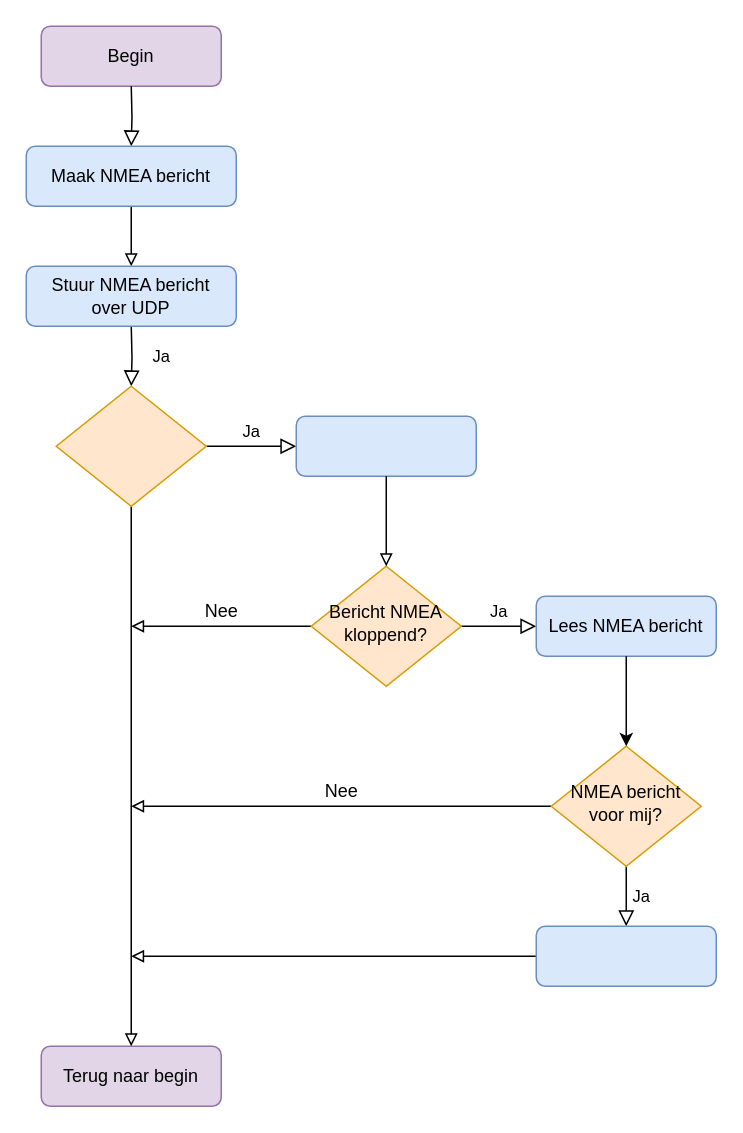
The diagram is 743 pixels wide and 1133 high, and some of its shapes have lost their labels. Each missing label, with the box of its shape:
Lees UDP: (295, 415, 476, 476)
UDP beschikbaar?: (55, 385, 206, 506)
Verwerk opdracht uit bericht: (535, 925, 716, 986)
